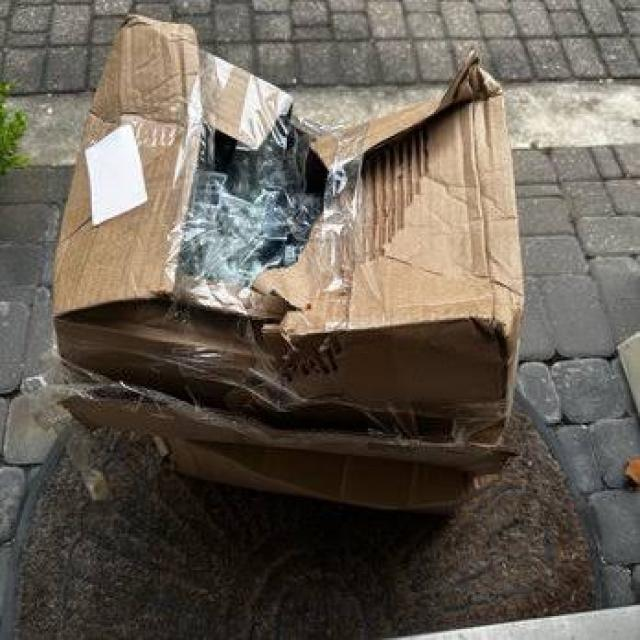package_damage: (88, 22, 524, 461)
